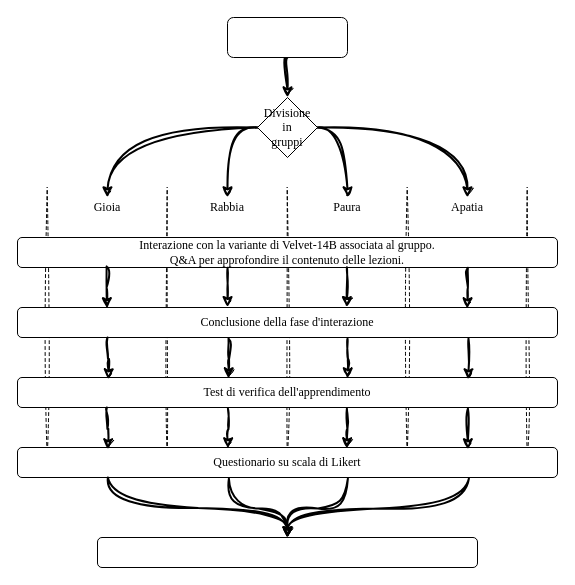
The diagram is 575 pixels wide and 585 high, and some of its shapes have lost their labels. The centre of each missing label's shape, as x and y in pixels:
"Frequentazione lezione universitaria" goes at pixel 287 37.
"Raccolta e analisi dati" goes at pixel 287 552.
